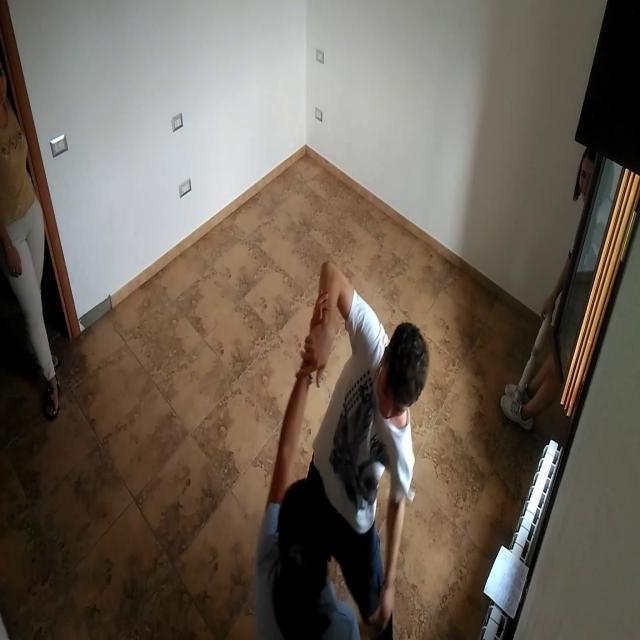non-violence: (0, 76, 64, 411)
violence: (258, 262, 426, 640)
